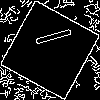I: (25, 25, 73, 51)
